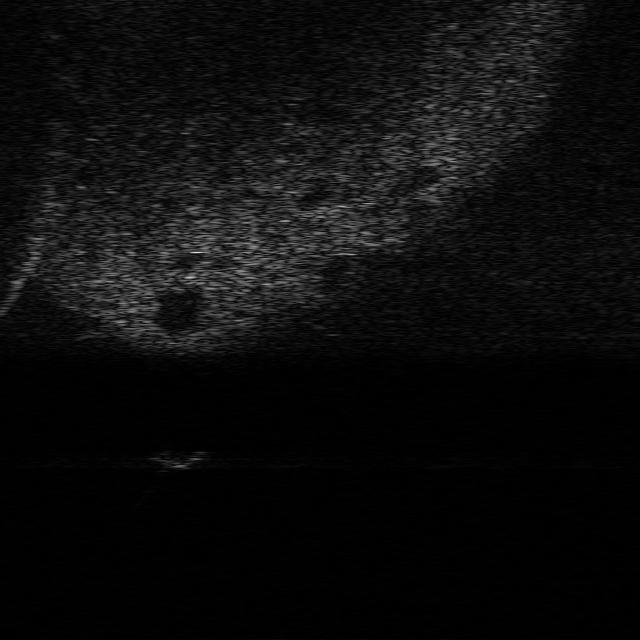cube: (147, 444, 205, 471)
